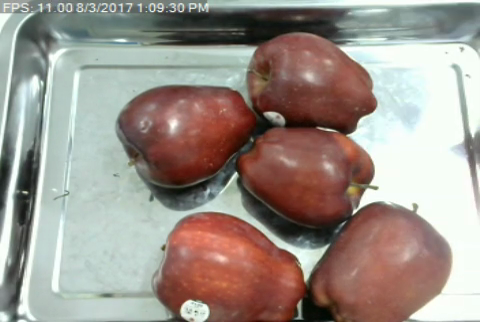Apple: (301, 197, 463, 322), (113, 78, 268, 190), (152, 208, 304, 322), (234, 120, 383, 229), (243, 30, 379, 135)
